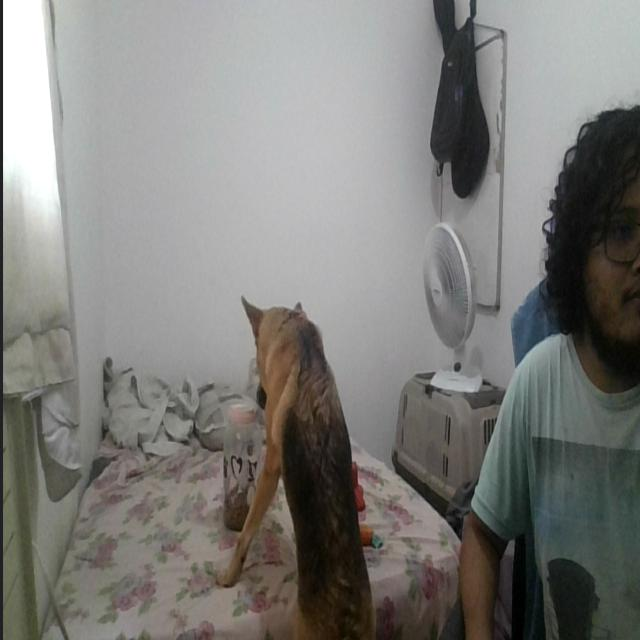brinquedo caro: (332, 457, 366, 510)
cachorro: (240, 286, 377, 640)
cenora de brinquedo: (350, 514, 380, 548)
humano: (463, 112, 640, 640)
racao: (222, 399, 260, 537)
